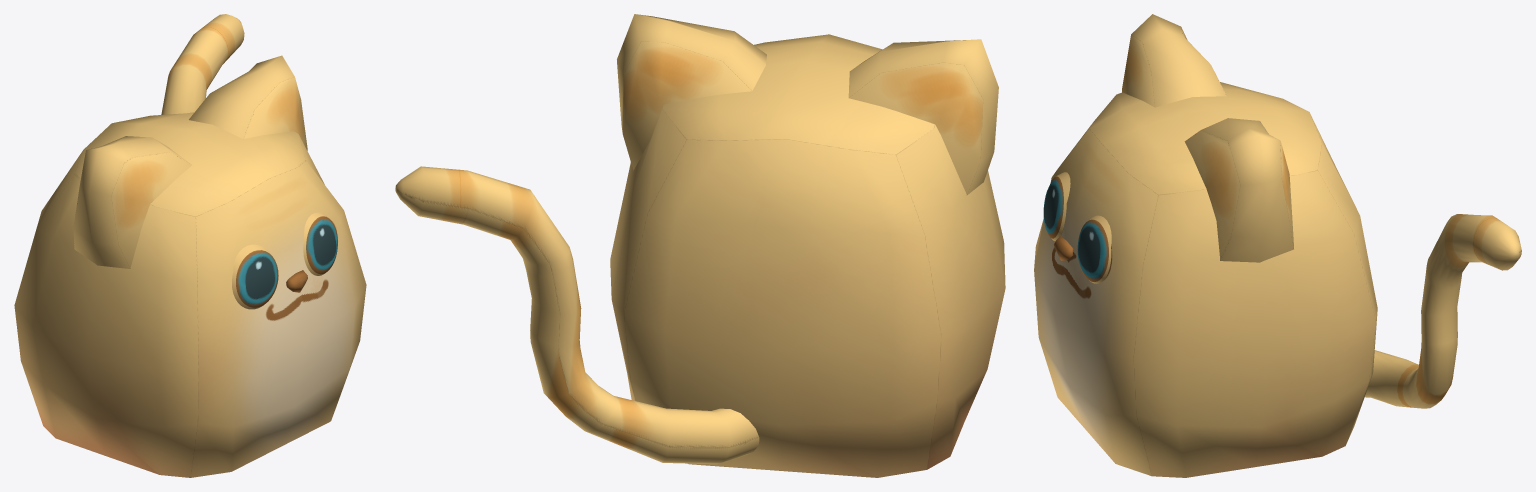
File: CatLamp.fbx
The picture shows the model from 3 angles, left to right: view 1: azimuth 30°, elevation 25°; view 2: azimuth 150°, elevation 25°; view 3: azimuth 270°, elevation 25°; orthographic projection. The views are drawn at different scales.
Visible parts, largest first — view 1: CatLamp; view 2: CatLamp; view 3: CatLamp.
Boxes of the visible parts, box(x1,y1,x2,y2) form: CatLamp: box(14, 14, 366, 477); CatLamp: box(395, 14, 1005, 477); CatLamp: box(1034, 14, 1521, 477).
Bounding box in the file's own units: 42.12 × 37.32 × 48.99.
1 material, 1 textured.
